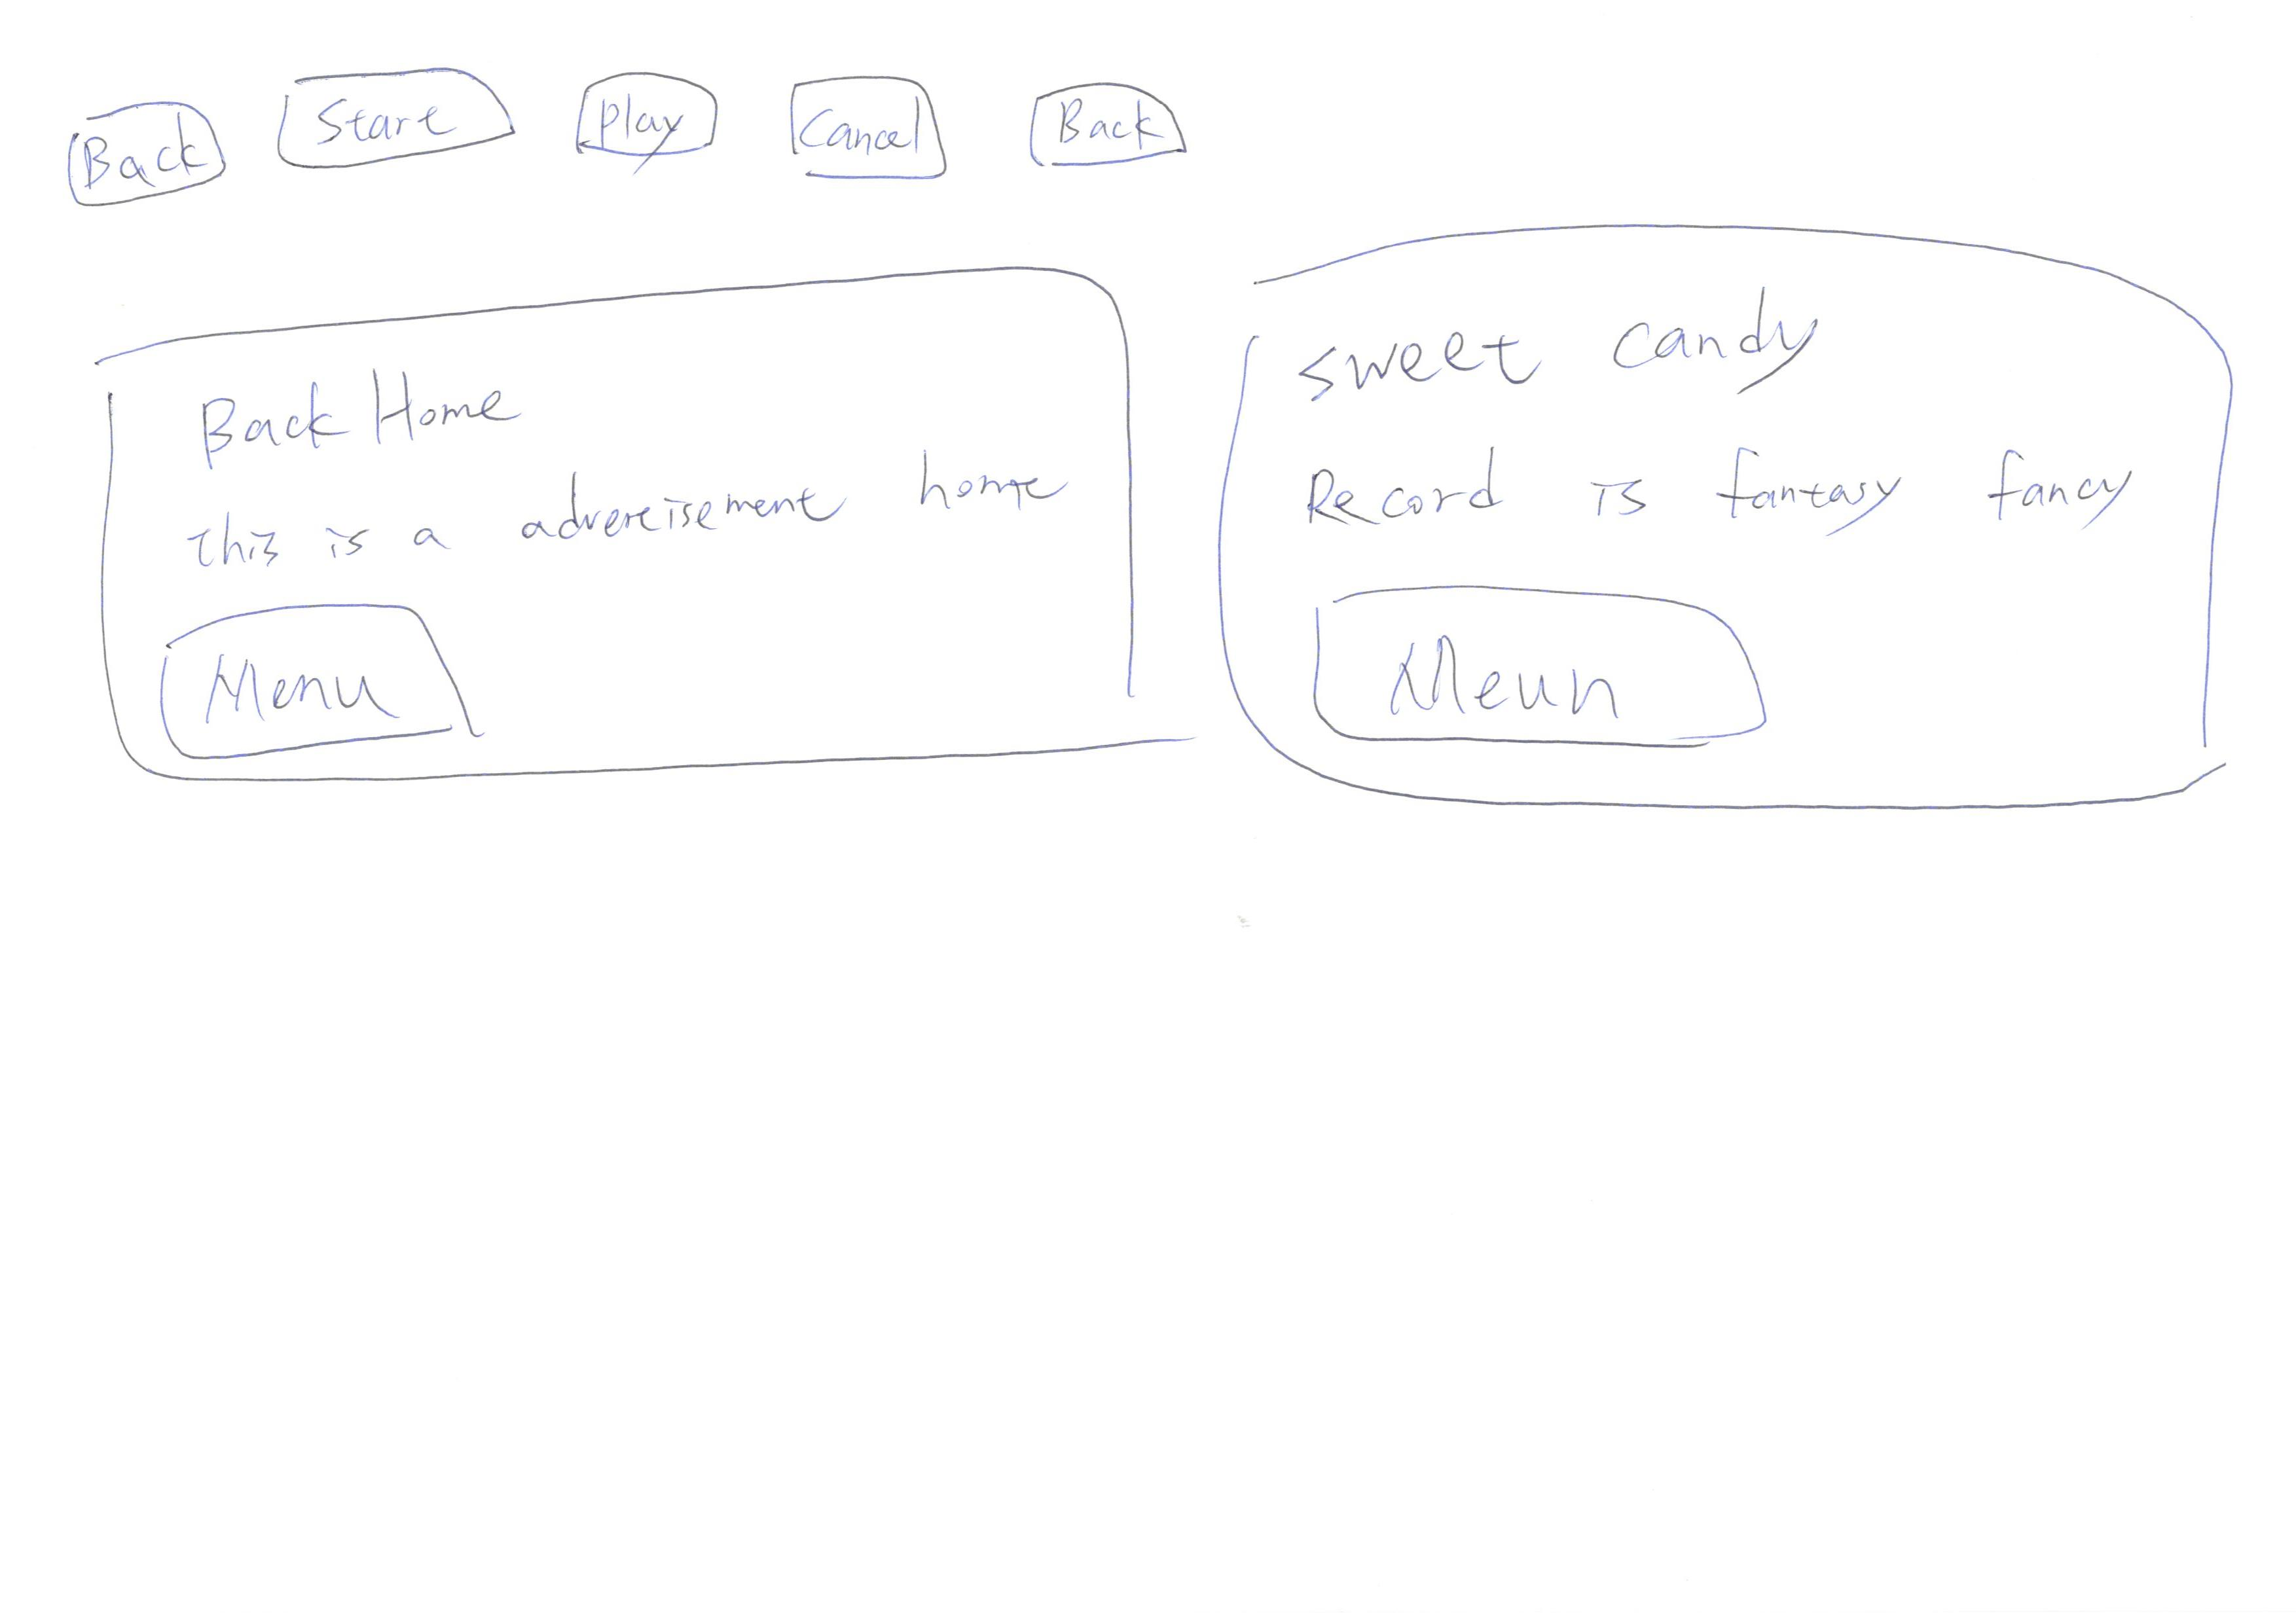back: (1002, 47, 1210, 197)
cancel: (782, 40, 963, 211)
double: (1185, 204, 2280, 863), (72, 257, 1157, 814)
menu: (1290, 564, 1791, 787), (130, 584, 498, 765)
next: (54, 74, 243, 225)
play: (563, 54, 742, 200)
row: (39, 207, 2296, 896), (37, 0, 2294, 251)
small-title: (1278, 308, 1855, 413), (176, 373, 541, 448)
start: (258, 40, 540, 218)
text: (1306, 432, 2176, 536), (176, 464, 1046, 547)
